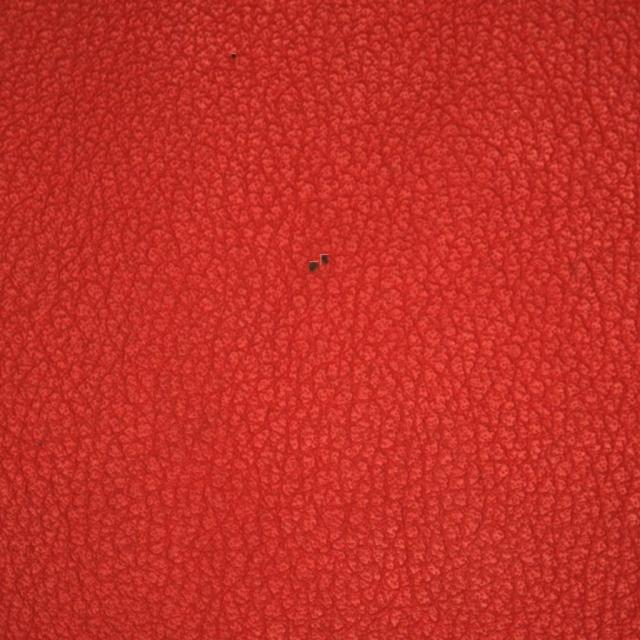Hole: (263, 177, 377, 346)
pinhole: (164, 25, 314, 108)
